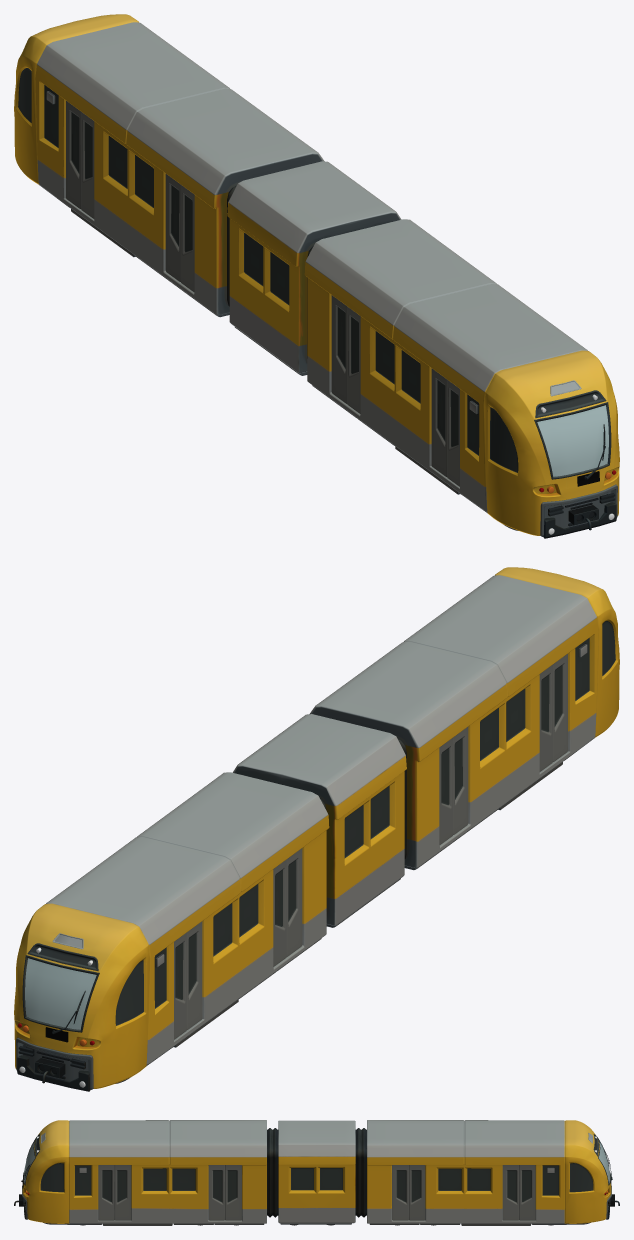
File: Train.glb
3 renders of one model, top to bottom at view 1: azimuth 30°, elevation 25°; view 2: azimuth 150°, elevation 25°; view 3: azimuth 270°, elevation 25°, orthographic. The views are drawn at different scales.
Parts seen in each view (by area): view 1: modern_train.1; view 2: modern_train.1; view 3: modern_train.1.
Part boxes in pixels (box(x1,y1,x2,y2)): modern_train.1: box(14, 14, 619, 538); modern_train.1: box(14, 567, 619, 1091); modern_train.1: box(14, 1120, 619, 1225).
Bounding box in the file's own units: 1.71 × 2.11 × 14.
Materials: 1 (1 with a texture image).
